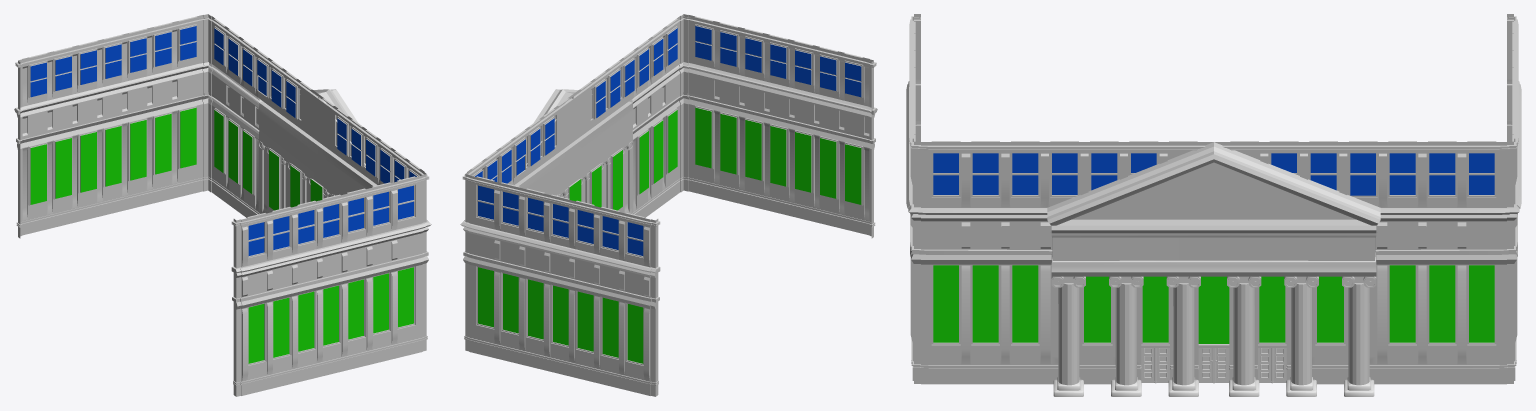
Rendered from Bank.fbx.
The picture shows the model from 3 angles, left to right: view 1: azimuth 30°, elevation 25°; view 2: azimuth 150°, elevation 25°; view 3: azimuth 270°, elevation 25°; orthographic projection. The views are drawn at different scales.
Visible parts, largest first — view 1: LowerBank; view 2: LowerBank; view 3: LowerBank, Pillars, BankDoor, BankDoor.002, BankDoor.003.
Part boxes in pixels (x1,y1,x2,y2): LowerBank: (14, 14, 431, 396); LowerBank: (460, 14, 877, 396); LowerBank: (906, 14, 1521, 384); Pillars: (1051, 276, 1376, 396); BankDoor: (1198, 348, 1229, 383); BankDoor.002: (1141, 348, 1169, 383); BankDoor.003: (1258, 348, 1286, 383).
Size of the model in its own units: 23.48 by 18.82 by 42.82.
